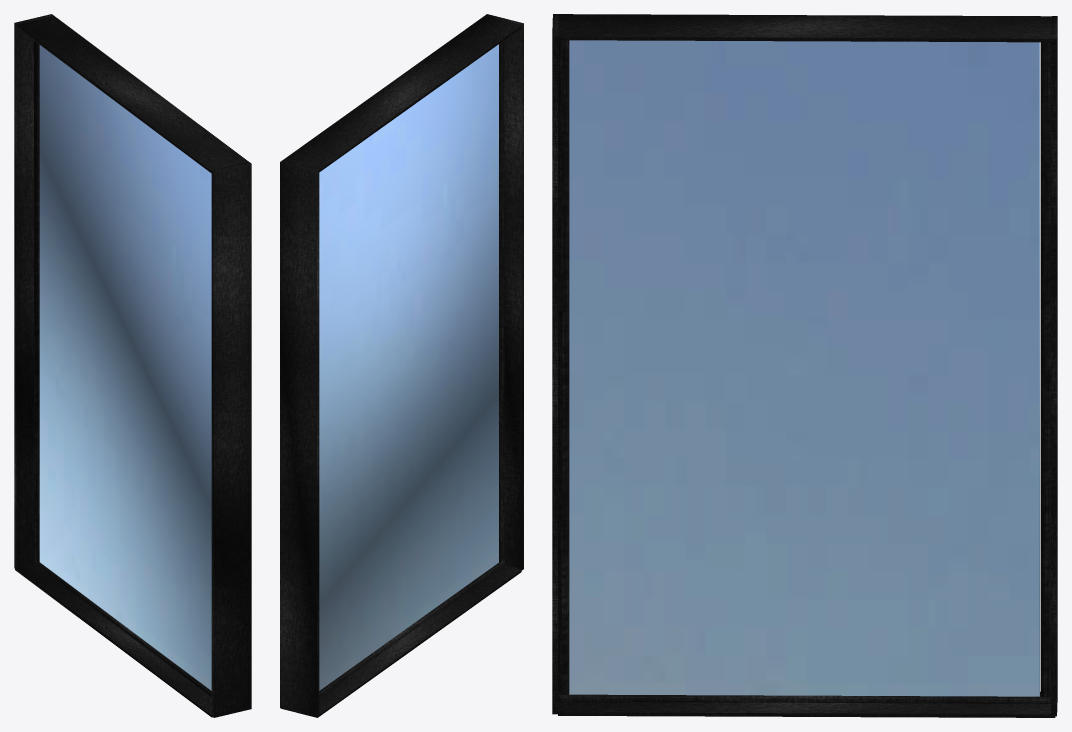
Rendered from Ventana15.obj.
3 renders of one model, left to right at view 1: azimuth 30°, elevation 25°; view 2: azimuth 150°, elevation 25°; view 3: azimuth 270°, elevation 25°, orthographic. The views are drawn at different scales.
Parts seen in each view (by area): view 1: polySurface86; view 2: polySurface86; view 3: polySurface86.
Part boxes in pixels (<box>): polySurface86: <box>14,14,251,717</box>; polySurface86: <box>280,14,523,717</box>; polySurface86: <box>552,14,1057,717</box>.
Bounding box in the file's own units: 0.148 × 1.9 × 1.28.
Materials: 2 (2 with a texture image).
